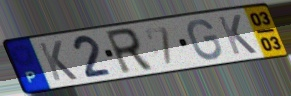2: (71, 33, 116, 81)
7: (144, 25, 174, 66)
G: (186, 18, 225, 62)
K: (36, 39, 80, 83), (215, 13, 259, 57)
R: (103, 26, 157, 77)
